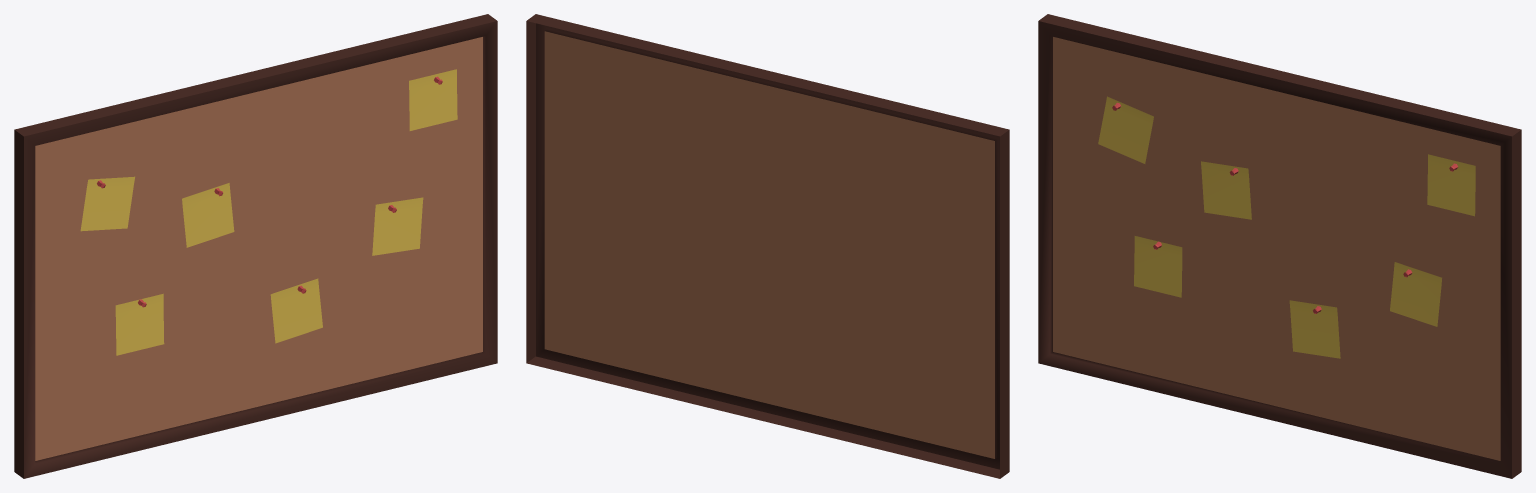
File: wall-corkboard.glb
3 views of the same model, side by side, from view 1: azimuth 30°, elevation 25°; view 2: azimuth 150°, elevation 25°; view 3: azimuth 330°, elevation 25° (orthographic).
Visible parts, largest first — view 1: wall-corkboard; view 2: wall-corkboard; view 3: wall-corkboard.
Part boxes in pixels (x1=…): wall-corkboard: x1=14, y1=14, x2=497, y2=478; wall-corkboard: x1=526, y1=14, x2=1009, y2=478; wall-corkboard: x1=1038, y1=14, x2=1521, y2=478.
Bounding box in the file's own units: 0.8 × 0.5525 × 0.0322.
